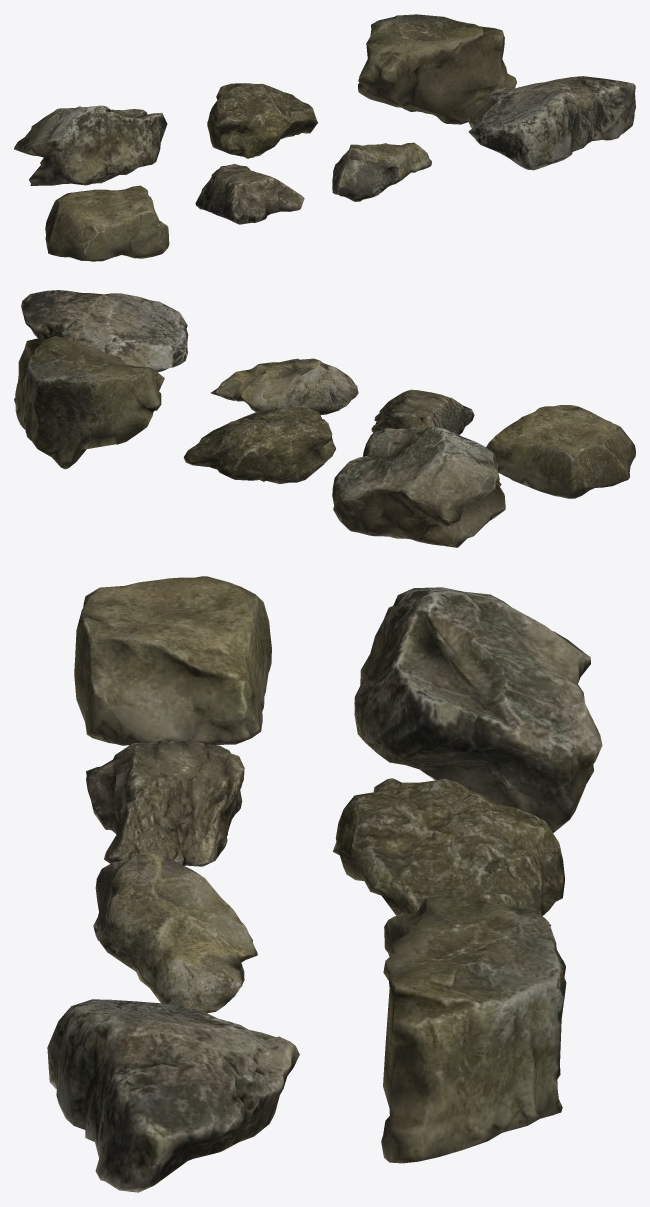
Rendered from rock_moss_set_02.glb.
The picture shows the model from 3 angles, top to bottom: view 1: azimuth 30°, elevation 25°; view 2: azimuth 150°, elevation 25°; view 3: azimuth 270°, elevation 25°; orthographic projection. The views are drawn at different scales.
Visible parts, largest first — view 1: rock_moss_set_02_rock13, rock_moss_set_02_rock10, rock_moss_set_02_rock11, rock_moss_set_02_rock07, rock_moss_set_02_rock12, rock_moss_set_02_rock08, rock_moss_set_02_rock09; view 2: rock_moss_set_02_rock11, rock_moss_set_02_rock13, rock_moss_set_02_rock07, rock_moss_set_02_rock10, rock_moss_set_02_rock12, rock_moss_set_02_rock09, rock_moss_set_02_rock08; view 3: rock_moss_set_02_rock13, rock_moss_set_02_rock11, rock_moss_set_02_rock10, rock_moss_set_02_rock07, rock_moss_set_02_rock12, rock_moss_set_02_rock09, rock_moss_set_02_rock08.
Boxes of the visible parts, left/top/right/bottom form: rock_moss_set_02_rock13: left=358, top=14, right=516, bottom=124; rock_moss_set_02_rock10: left=468, top=76, right=635, bottom=170; rock_moss_set_02_rock11: left=14, top=105, right=167, bottom=185; rock_moss_set_02_rock07: left=45, top=185, right=169, bottom=261; rock_moss_set_02_rock12: left=207, top=83, right=317, bottom=158; rock_moss_set_02_rock08: left=195, top=164, right=304, bottom=224; rock_moss_set_02_rock09: left=332, top=142, right=431, bottom=201; rock_moss_set_02_rock11: left=332, top=426, right=505, bottom=547; rock_moss_set_02_rock13: left=14, top=336, right=164, bottom=469; rock_moss_set_02_rock07: left=486, top=405, right=635, bottom=498; rock_moss_set_02_rock10: left=21, top=290, right=188, bottom=372; rock_moss_set_02_rock12: left=183, top=405, right=335, bottom=483; rock_moss_set_02_rock09: left=210, top=358, right=358, bottom=415; rock_moss_set_02_rock08: left=371, top=389, right=474, bottom=434; rock_moss_set_02_rock13: left=381, top=894, right=566, bottom=1163; rock_moss_set_02_rock11: left=354, top=587, right=602, bottom=832; rock_moss_set_02_rock10: left=47, top=999, right=299, bottom=1192; rock_moss_set_02_rock07: left=74, top=576, right=271, bottom=745; rock_moss_set_02_rock12: left=332, top=778, right=564, bottom=925; rock_moss_set_02_rock09: left=93, top=851, right=257, bottom=1013; rock_moss_set_02_rock08: left=86, top=740, right=244, bottom=866.
Size of the model in its own units: 8.28 by 1.36 by 3.41.
Materials: 1 (1 with a texture image).
